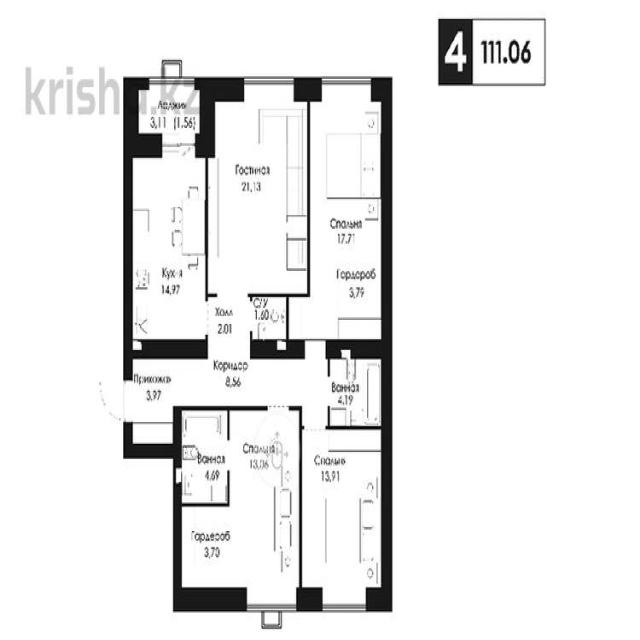balcony: (130, 82, 206, 148)
bathroom: (329, 343, 390, 424), (177, 411, 228, 505), (250, 294, 288, 353)
hallway: (178, 352, 328, 408), (128, 349, 176, 440), (208, 293, 250, 348)
kitchen: (127, 152, 207, 352)
living_room: (210, 88, 310, 292), (304, 420, 388, 604), (312, 85, 389, 259), (230, 409, 299, 601)
other: (310, 259, 390, 343), (177, 506, 228, 596)
